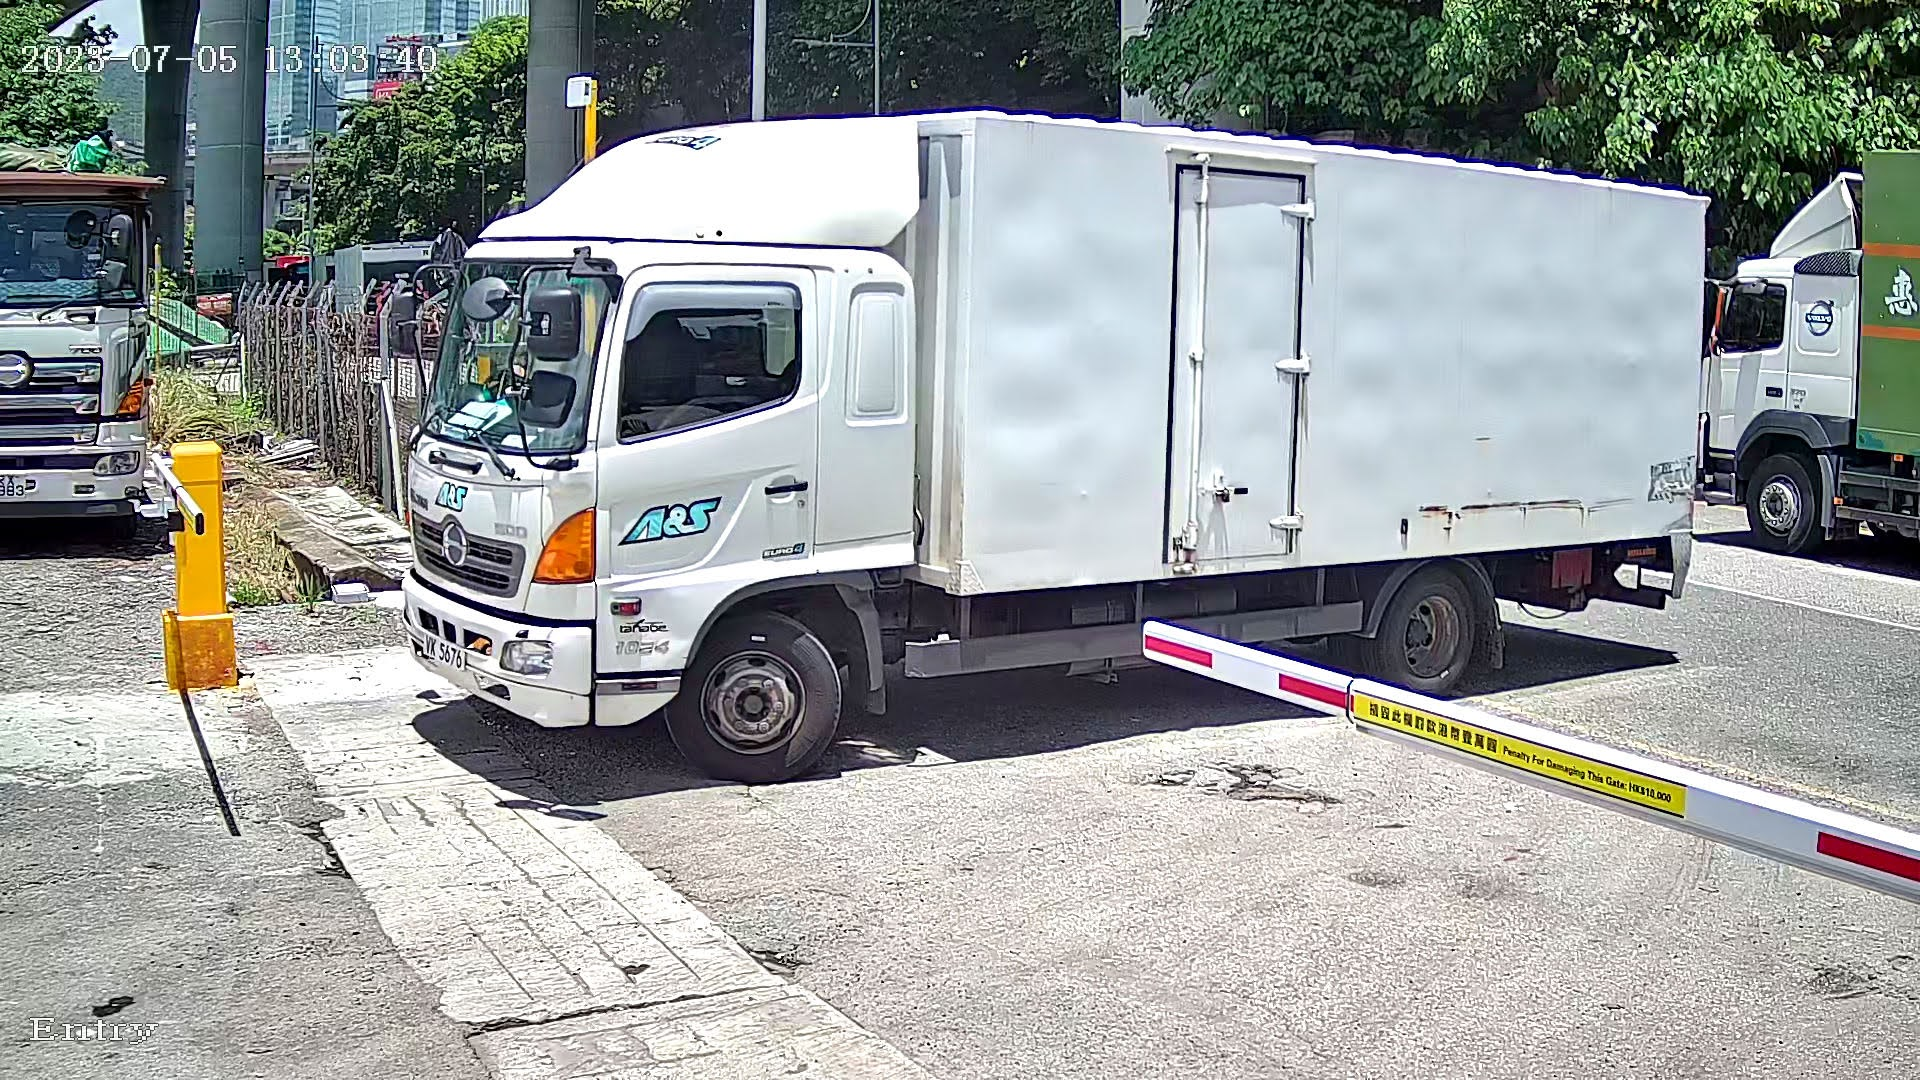truck_small: (388, 76, 1758, 839)
